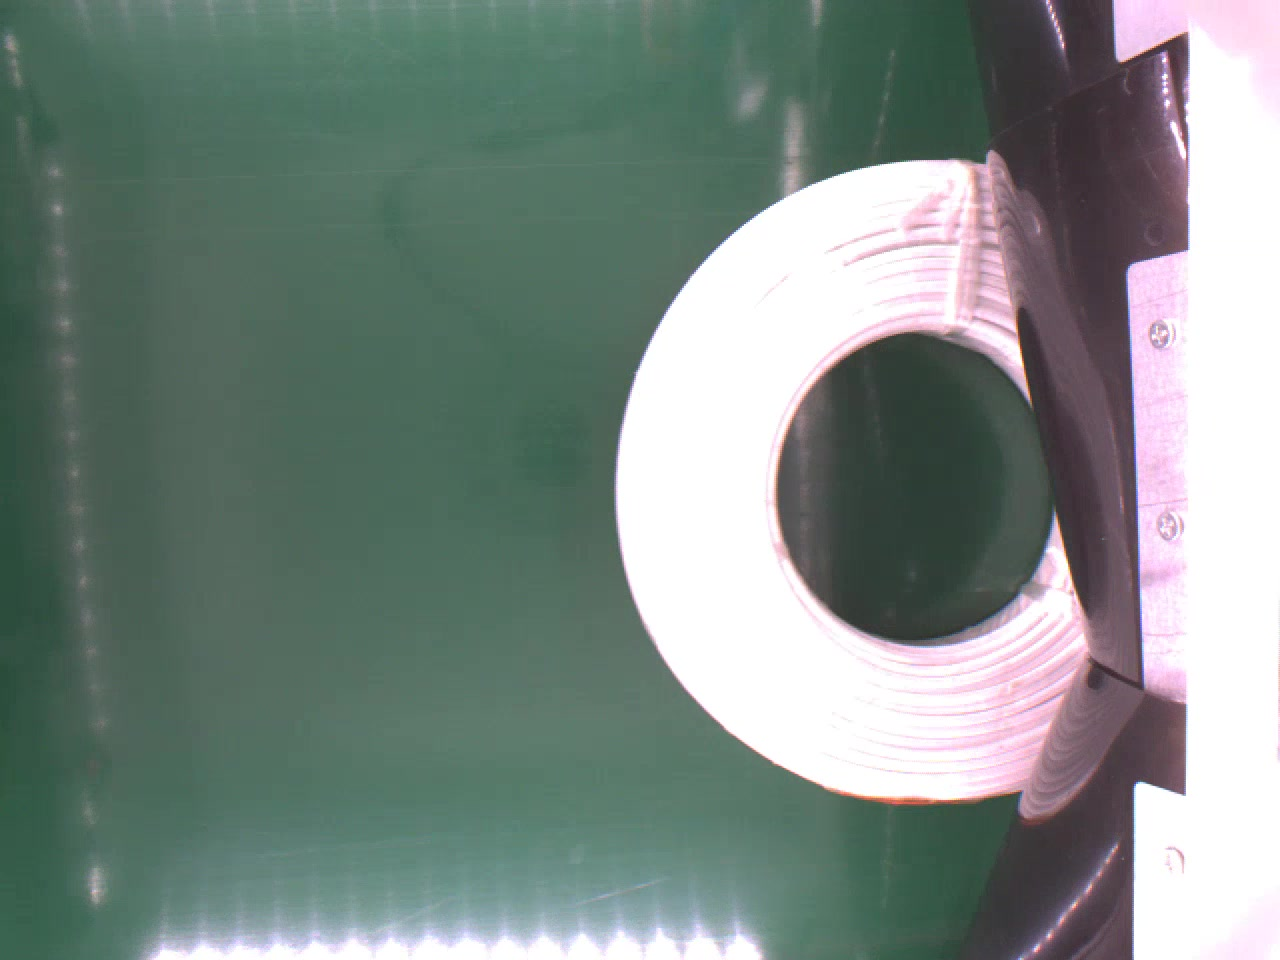white: (616, 158, 1096, 801)
